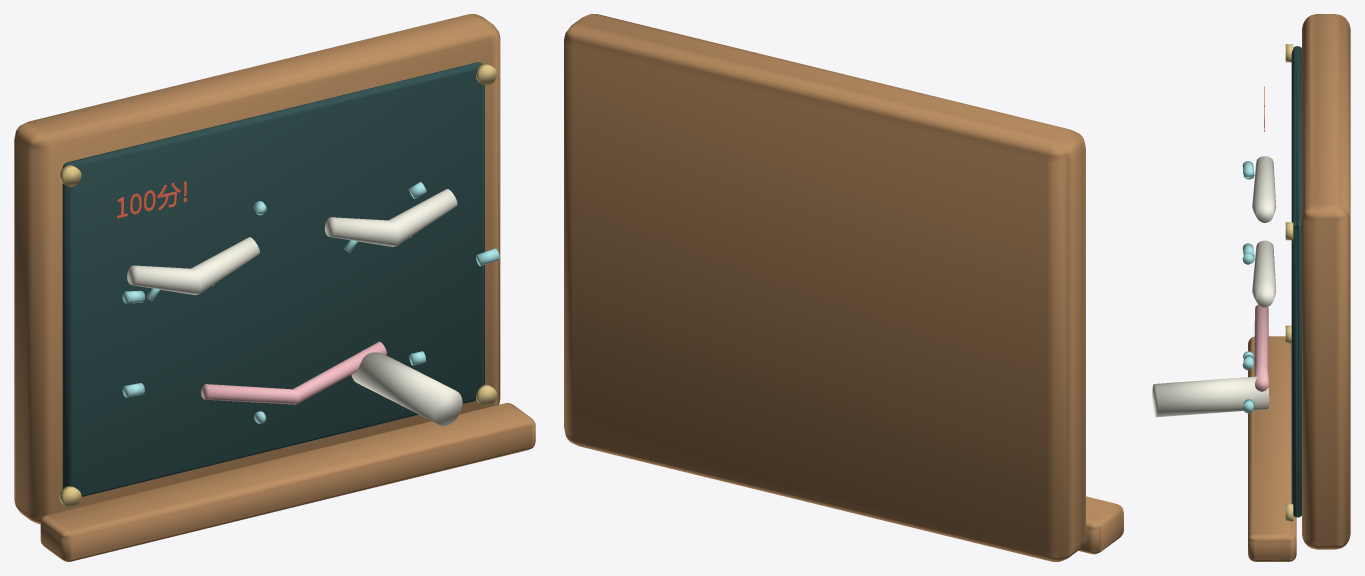
Rendered from Q03_Dreaming_School_Blackboard.glb.
3 views of the same model, side by side, from view 1: azimuth 30°, elevation 25°; view 2: azimuth 150°, elevation 25°; view 3: azimuth 270°, elevation 25° (orthographic). The views are drawn at different scales.
Visible parts, largest first — view 1: Q03 matte dark green slate face, Q03_BOARD_STATIC | Oiled oak class blackboard solid bevel fr, Q03_EYES_ACTOR | Glassy white gypsum chalk, Q03 full physical long white drawing chalk stick, Q03 dreamy smiling chalk mouth, Q03_WRITING_ACTOR | Pale cyan whimsical chalk dream doodles, Q03_BOARD_STATIC | School gold wood frame corner studs, Q03 white chalk magical original handwriting grade; view 2: Q03_BOARD_STATIC | Oiled oak class blackboard solid bevel fr; view 3: Q03_BOARD_STATIC | Oiled oak class blackboard solid bevel fr, Q03 matte dark green slate face, Q03 full physical long white drawing chalk stick, Q03_EYES_ACTOR | Glassy white gypsum chalk, Q03 dreamy smiling chalk mouth, Q03_WRITING_ACTOR | Pale cyan whimsical chalk dream doodles, Q03_BOARD_STATIC | School gold wood frame corner studs.
Boxes of the visible parts, x1,y1,x2,y2 form: Q03 matte dark green slate face: (62, 62, 484, 496); Q03_BOARD_STATIC | Oiled oak class blackboard solid bevel fr: (14, 14, 535, 561); Q03_EYES_ACTOR | Glassy white gypsum chalk: (127, 189, 457, 295); Q03 full physical long white drawing chalk stick: (351, 349, 462, 425); Q03 dreamy smiling chalk mouth: (201, 341, 386, 404); Q03_WRITING_ACTOR | Pale cyan whimsical chalk dream doodles: (122, 182, 499, 423); Q03_BOARD_STATIC | School gold wood frame corner studs: (59, 63, 496, 507); Q03 white chalk magical original handwriting grade: (117, 181, 187, 218); Q03_BOARD_STATIC | Oiled oak class blackboard solid bevel fr: (564, 14, 1123, 561); Q03_BOARD_STATIC | Oiled oak class blackboard solid bevel fr: (1248, 14, 1350, 561); Q03 matte dark green slate face: (1291, 46, 1301, 517); Q03 full physical long white drawing chalk stick: (1152, 376, 1269, 417); Q03_EYES_ACTOR | Glassy white gypsum chalk: (1252, 156, 1276, 307); Q03 dreamy smiling chalk mouth: (1254, 304, 1268, 391); Q03_WRITING_ACTOR | Pale cyan whimsical chalk dream doodles: (1242, 161, 1254, 413); Q03_BOARD_STATIC | School gold wood frame corner studs: (1285, 44, 1293, 521).
Bounding box in the file's own units: 1.87 × 1.52 × 0.7728.
